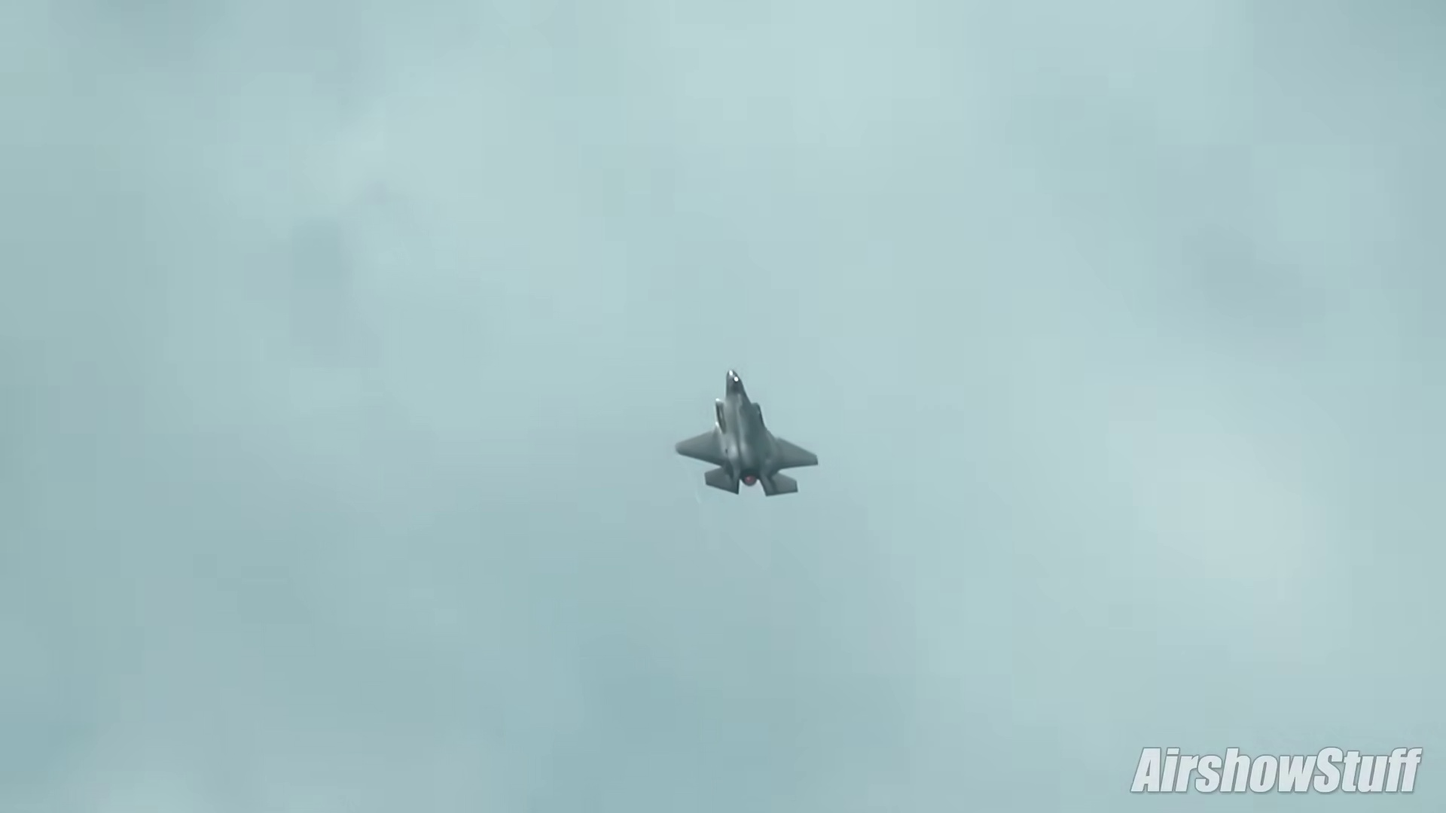F35: (670, 365, 824, 504)
